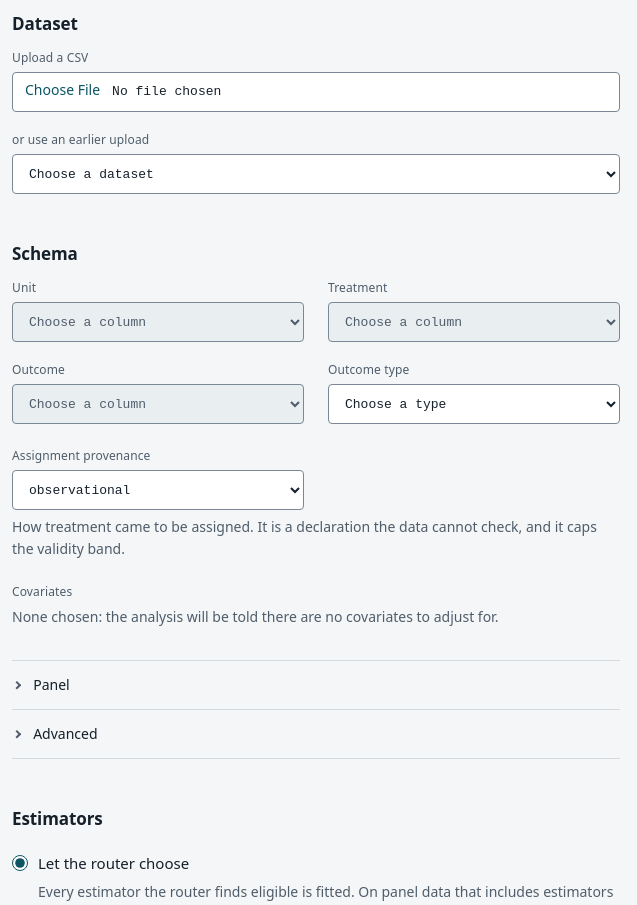
Scenario: the earlier-upload select › shows the chosen dataset's columns and holds its id
This screenshot has width=637, height=905.
Select "a.csv (1 KB)" in the dropdown labelled "or use an earlier upload" at [316, 174], box [12,154,620,194]
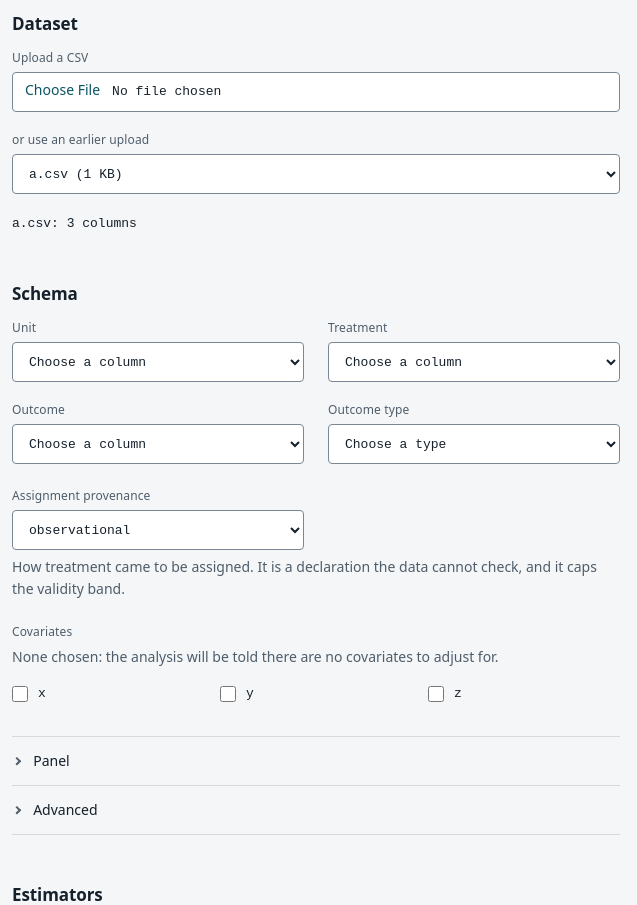
Check: the text "a.csv: 3 columns" is shown, box [12,216,137,231]
